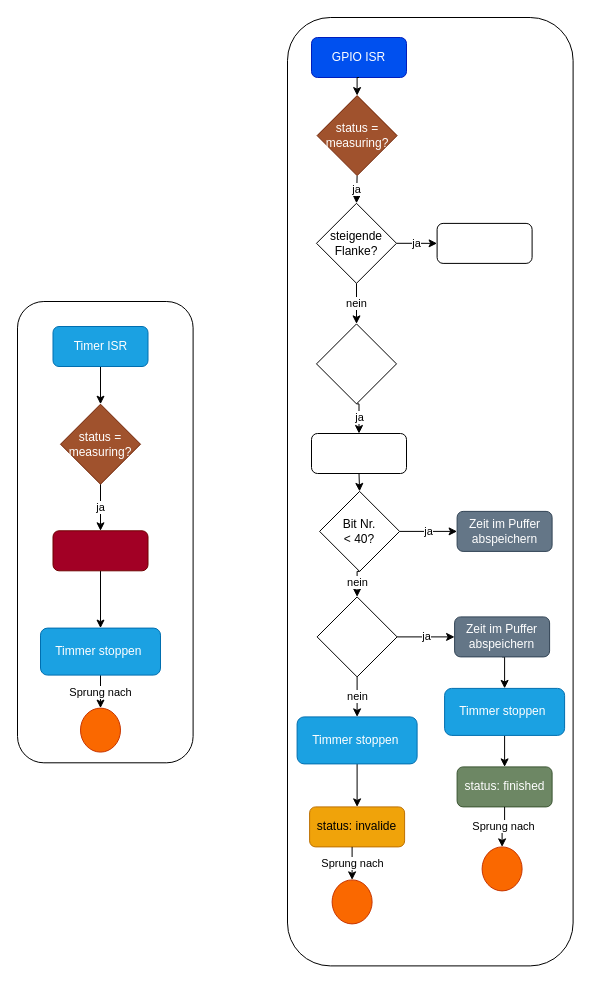
This 591x984 diagram has some shape labels left out. Each missing label, with the centre of its shape:
"Bit nr. 40?" goes at point 356,636.
"fallende Flanke?" goes at point 356,363.
"status: error 2" goes at point 100,550.
"Timer auf 0 setzen" goes at point 484,242.
"Timer lesen" goes at point 358,453.
